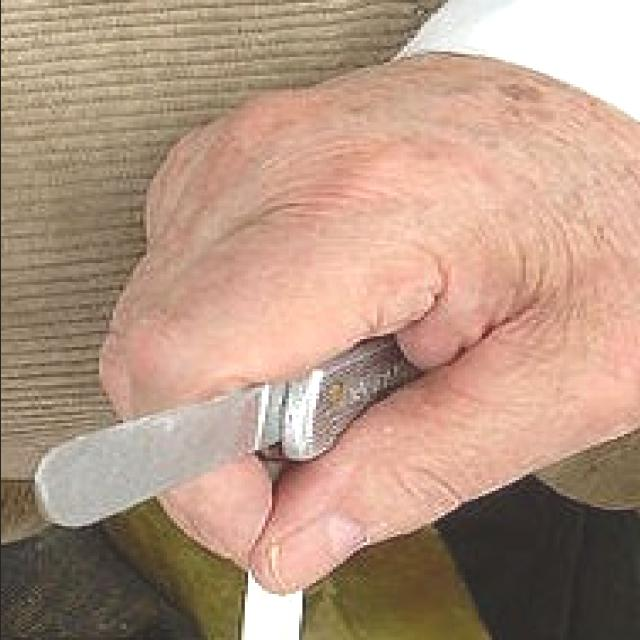knife: (37, 293, 437, 548)
